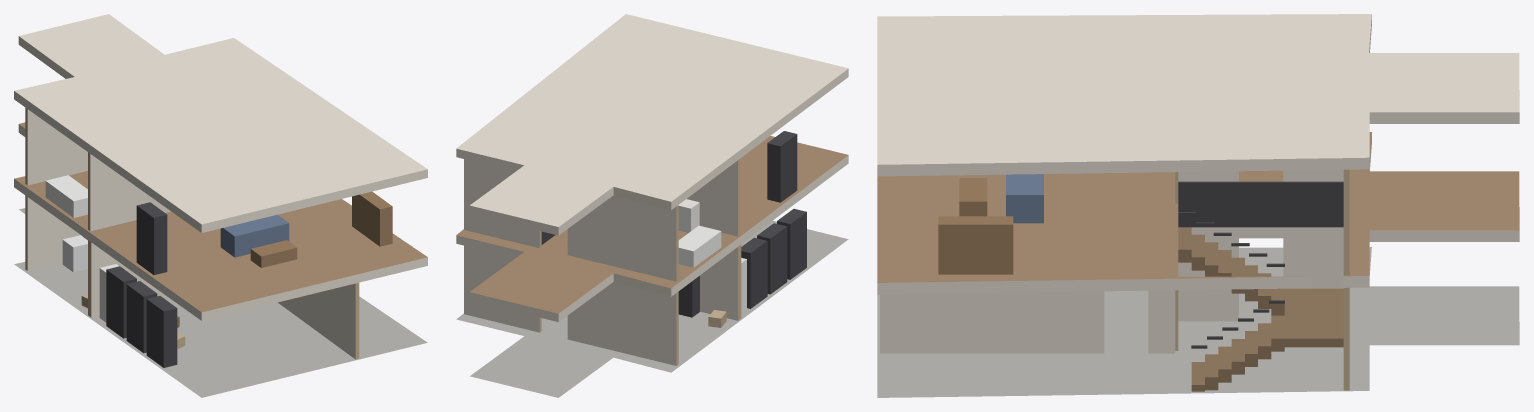
The model's file is interior.glb.
3 renders of one model, left to right at view 1: azimuth 30°, elevation 25°; view 2: azimuth 150°, elevation 25°; view 3: azimuth 270°, elevation 25°, orthographic. The views are drawn at different scales.
Visible parts, largest first — view 1: slabs, partitions, coarse-s1, coarse-s0; view 2: slabs, partitions, coarse-s0, coarse-s1; view 3: slabs, partitions, stair, coarse-s1.
Boxes of the visible parts, left/top/right/bottom form: slabs: left=14, top=14, right=427, bottom=397; partitions: left=25, top=107, right=359, bottom=359; coarse-s1: left=45, top=175, right=392, bottom=274; coarse-s0: left=62, top=235, right=185, bottom=367; slabs: left=456, top=14, right=848, bottom=397; partitions: left=464, top=159, right=741, bottom=365; coarse-s0: left=678, top=208, right=806, bottom=327; coarse-s1: left=678, top=131, right=797, bottom=267; slabs: left=877, top=14, right=1519, bottom=397; partitions: left=880, top=169, right=1349, bottom=390; stair: left=1178, top=181, right=1343, bottom=391; coarse-s1: left=938, top=174, right=1043, bottom=274.
Size of the model in its own units: 7.26 by 5.25 by 13.06.
